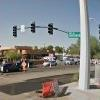Traffic light: (5, 16, 66, 42)
